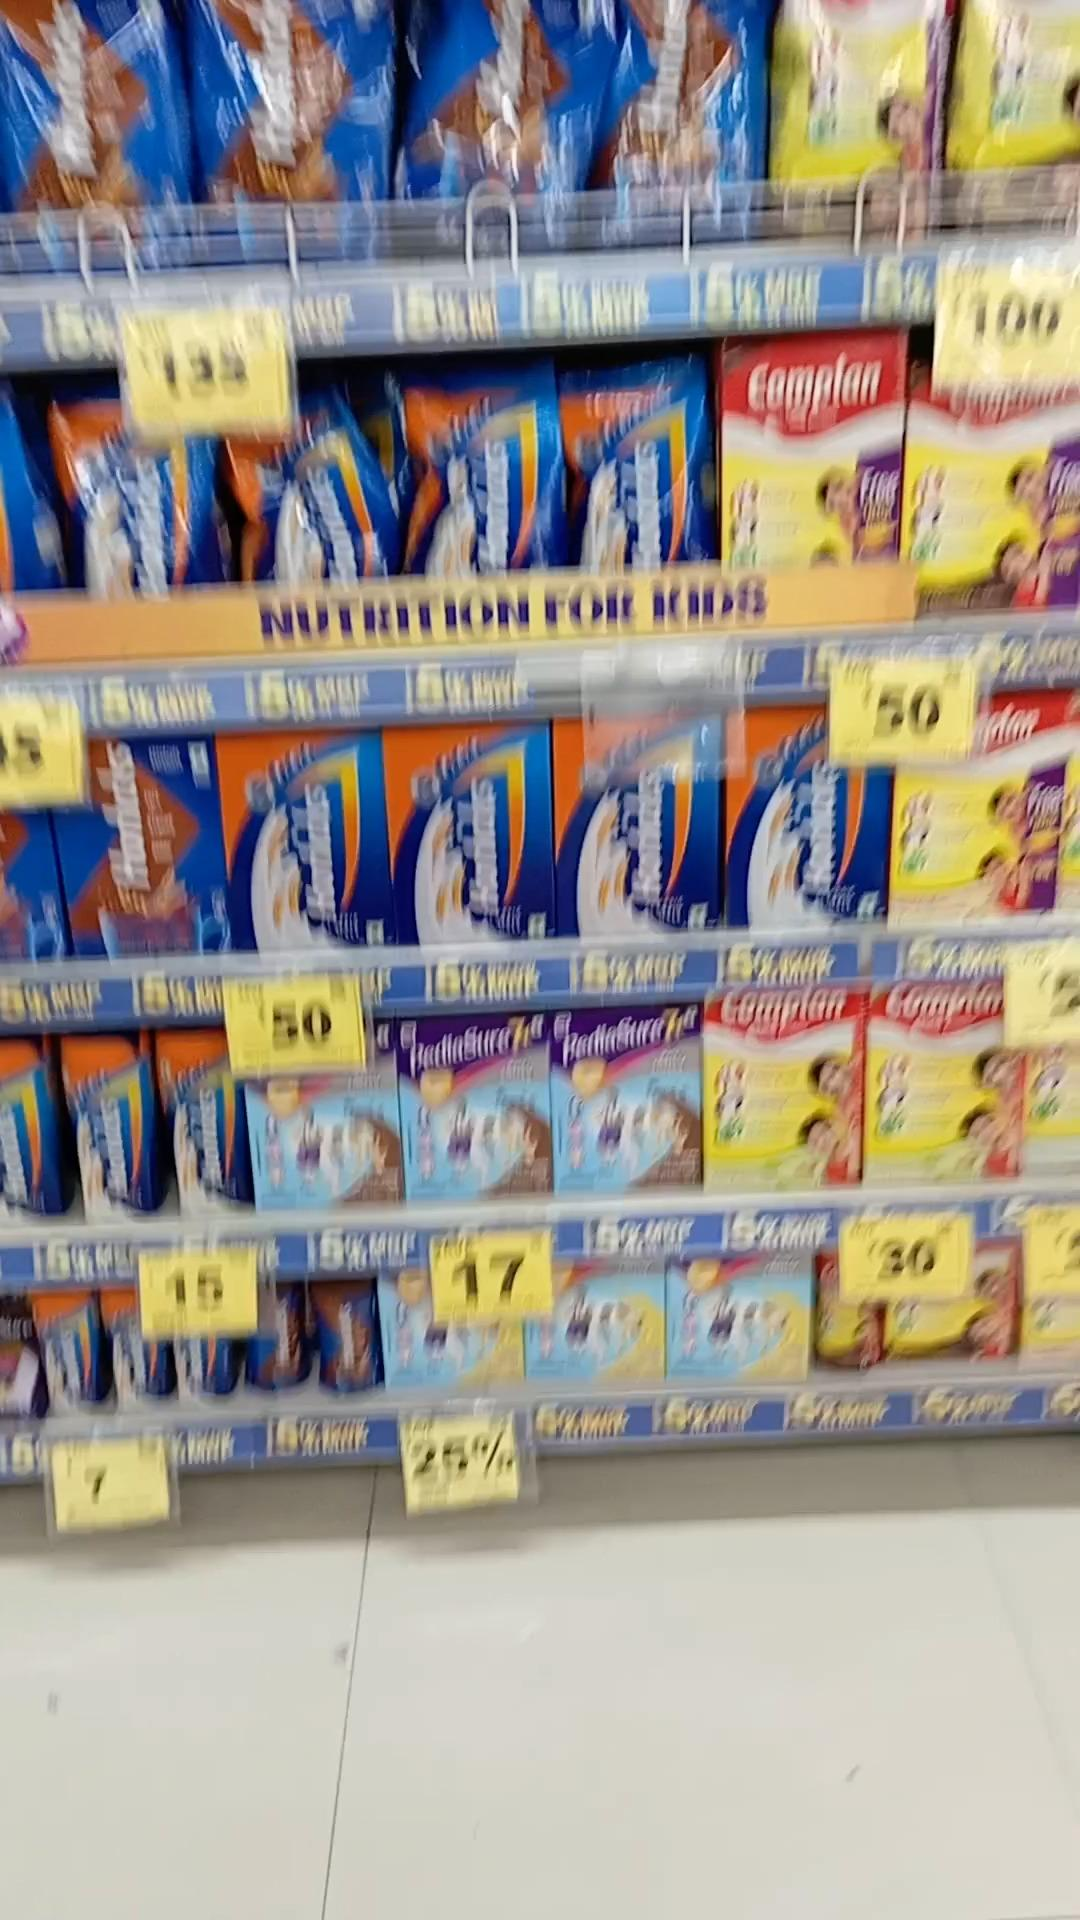COMPLAN_CHOCOLATE_500_GMS_PACK: (905, 393, 1080, 617)
HORLICK_CLASSIC_MALT_500_G_PACK: (724, 709, 887, 923), (550, 720, 716, 930), (223, 732, 382, 948), (389, 731, 541, 939)
